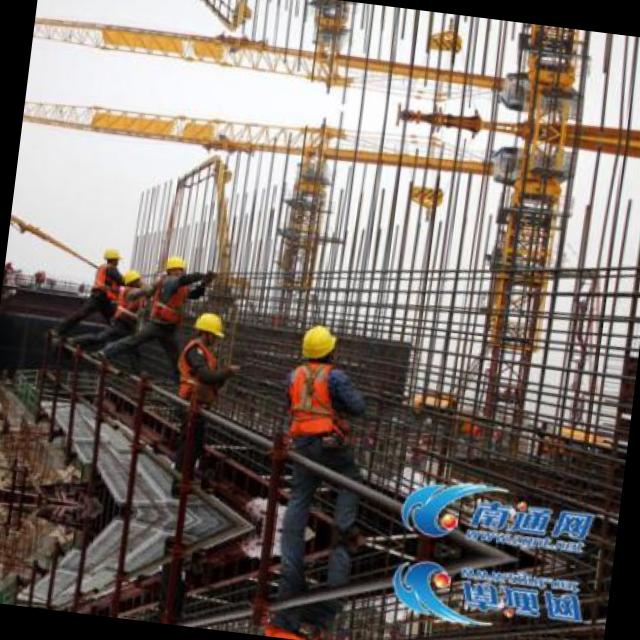helmet: (294, 319, 340, 370), (190, 307, 224, 349), (158, 254, 190, 282), (119, 266, 146, 290), (99, 243, 122, 270)
